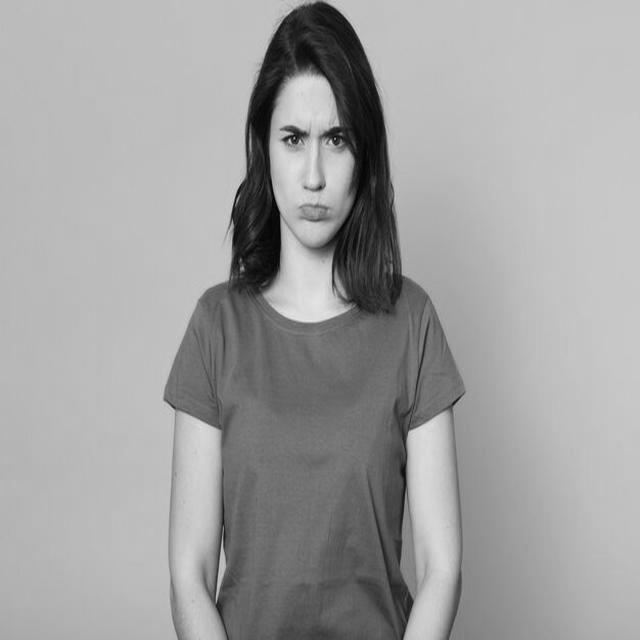Angry: (269, 73, 359, 249)
